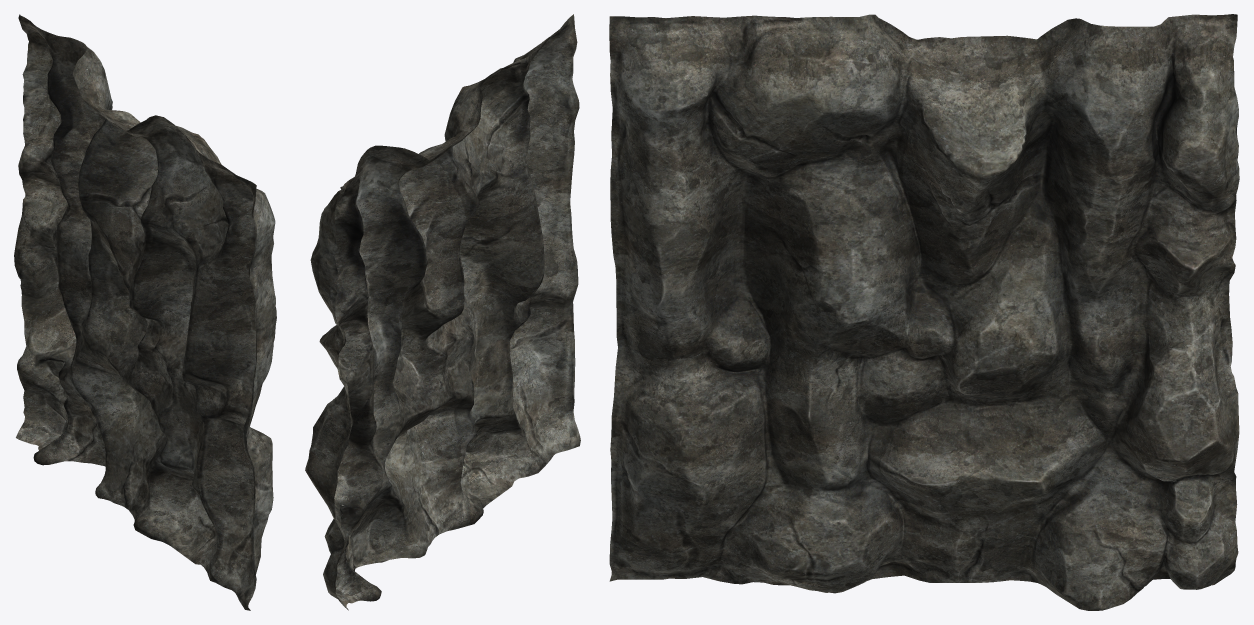
The model's file is cave_ravine_wall_02.dae.
The picture shows the model from 3 angles, left to right: view 1: azimuth 30°, elevation 25°; view 2: azimuth 150°, elevation 25°; view 3: azimuth 270°, elevation 25°; orthographic projection. The views are drawn at different scales.
Parts seen in each view (by area): view 1: wall_2_low; view 2: wall_2_low; view 3: wall_2_low.
Part boxes in pixels (x1,y1,x2,y2): wall_2_low: (14, 14, 276, 610); wall_2_low: (305, 14, 580, 610); wall_2_low: (609, 14, 1239, 610).
Size of what is drawn, in the model's own units: 0.8649 by 4.02 by 4.02.
